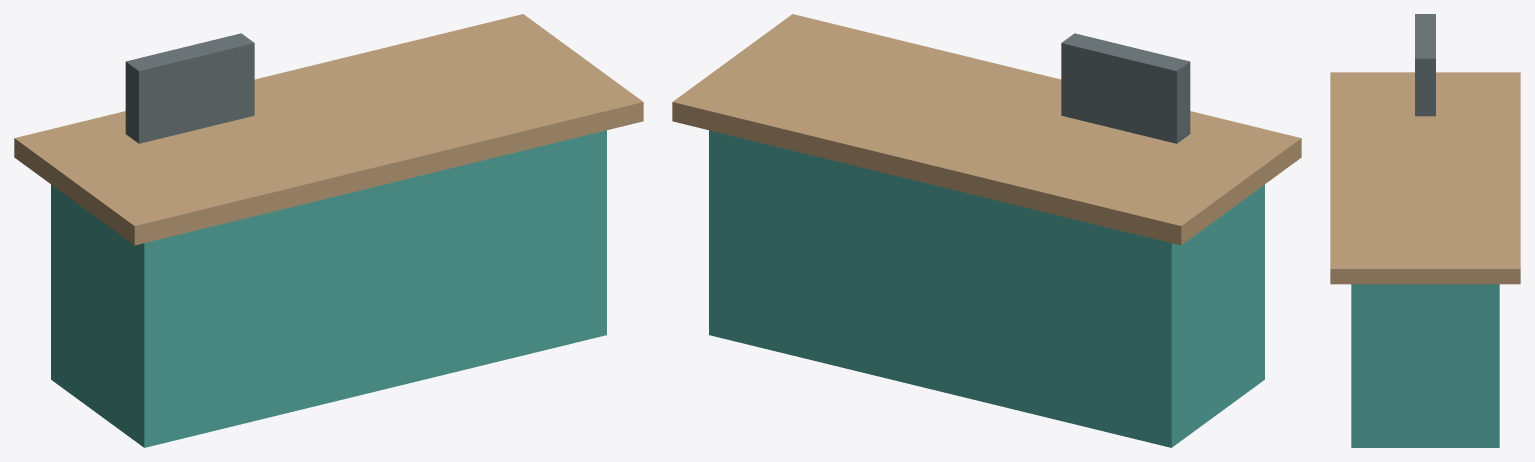
Rendered from supermarket-operations-service-desk-b178f424__26769.glb.
3 views of the same model, side by side, from view 1: azimuth 30°, elevation 25°; view 2: azimuth 150°, elevation 25°; view 3: azimuth 270°, elevation 25° (orthographic). The views are drawn at different scales.
Parts seen in each view (by area): view 1: service-desk; view 2: service-desk; view 3: service-desk.
Part boxes in pixels (x1,y1,x2,y2): service-desk: [14, 14, 643, 447]; service-desk: [672, 14, 1301, 447]; service-desk: [1330, 14, 1520, 447].
Size of the model in its own units: 2.2 by 1.4 by 0.9.
